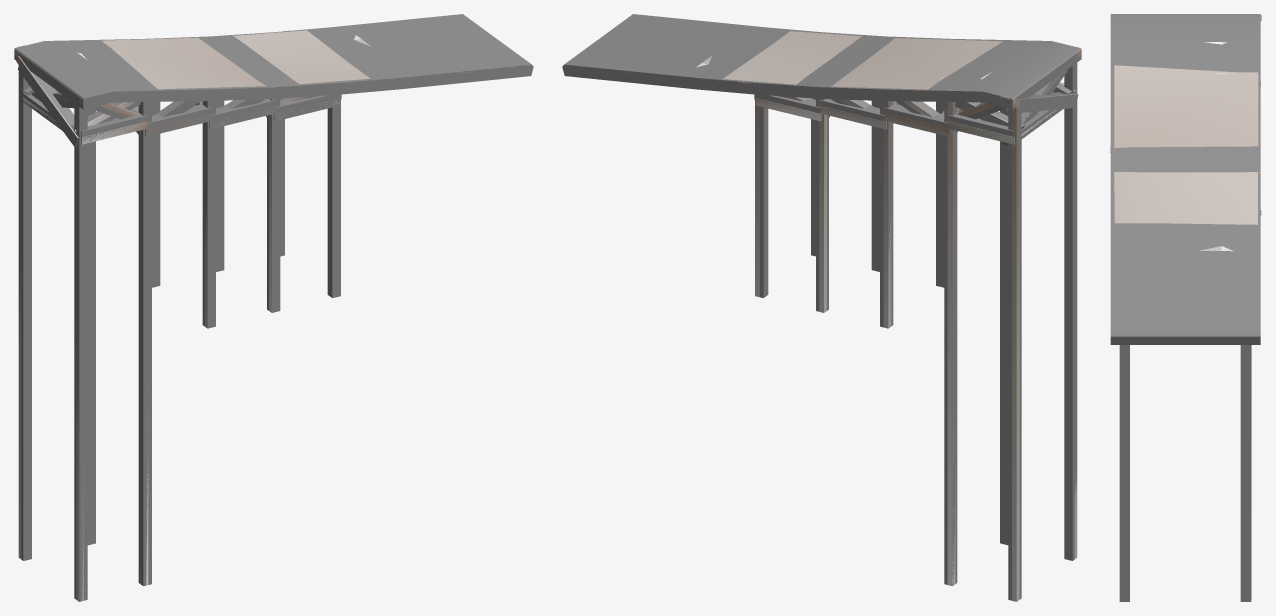
Rendered from ut_ramp_small_wood.DAE.
The picture shows the model from 3 angles, left to right: view 1: azimuth 30°, elevation 25°; view 2: azimuth 150°, elevation 25°; view 3: azimuth 270°, elevation 25°; orthographic projection. The views are drawn at different scales.
Visible parts, largest first — view 1: colmesh-1, Ramp_small_c50, Ramp_small_c1000; view 2: colmesh-1, Ramp_small_c1000, Ramp_small_c50, Ramp_small_c130; view 3: colmesh-1, Ramp_small_c50, Ramp_small_c1000.
Boxes of the visible parts, x1,y1,x2,y2 form: colmesh-1: (14,14,533,601); Ramp_small_c50: (101,30,369,89); Ramp_small_c1000: (14,30,531,601); colmesh-1: (562,14,1081,600); Ramp_small_c1000: (564,34,1081,601); Ramp_small_c50: (723,31,1002,89); Ramp_small_c130: (949,147,954,586); colmesh-1: (1110,14,1260,601); Ramp_small_c50: (1114,65,1258,224); Ramp_small_c1000: (1110,15,1261,599).
Size of the model in its own units: 18.86 by 5.05 by 20.21.
